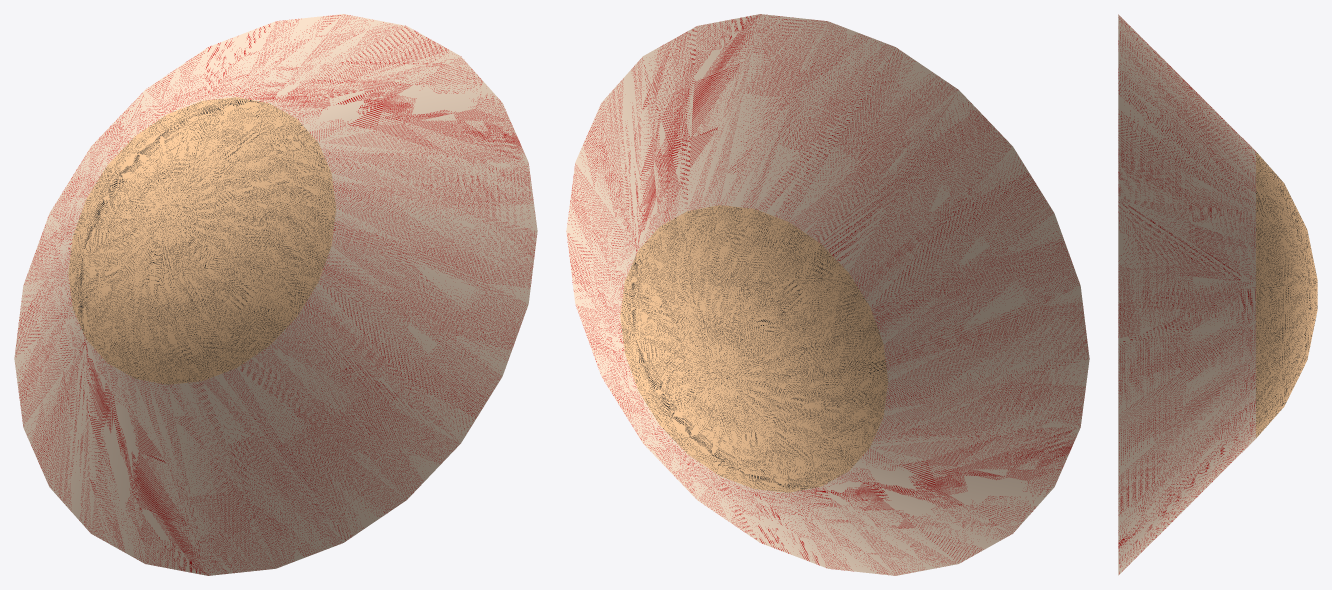
File: model_scale.obj
3 views of the same model, side by side, from view 1: azimuth 30°, elevation 25°; view 2: azimuth 150°, elevation 25°; view 3: azimuth 270°, elevation 25° (orthographic). The views are drawn at different scales.
Parts seen in each view (by area): view 1: mesh1_mesh1-geometry; view 2: mesh1_mesh1-geometry; view 3: mesh1_mesh1-geometry.
Boxes of the visible parts, <box> form: mesh1_mesh1-geometry: <box>14,14,537,575</box>; mesh1_mesh1-geometry: <box>566,14,1089,575</box>; mesh1_mesh1-geometry: <box>1118,14,1317,575</box>.
Bounding box in the file's own units: 0.1392 × 0.1392 × 0.0493.
